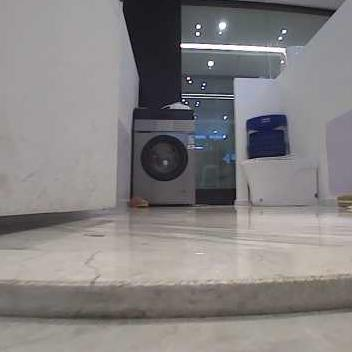slipper: (125, 194, 149, 208)
toilet: (239, 153, 320, 205)
washing_machine: (130, 106, 194, 206)
